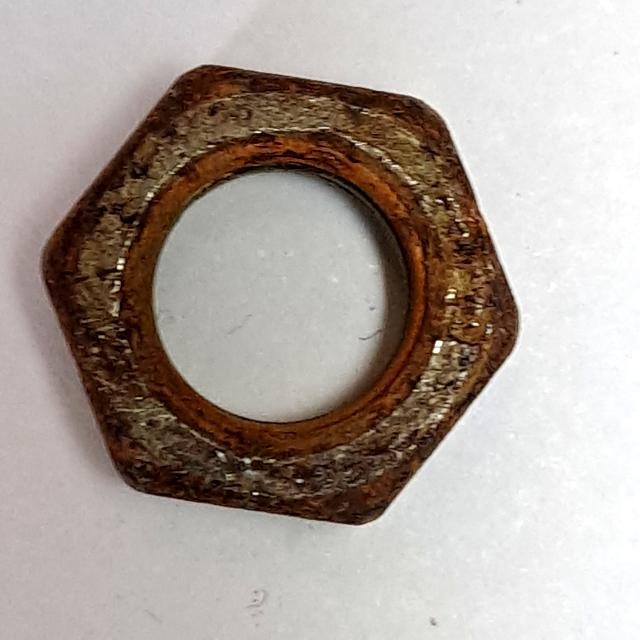Rust: (29, 40, 550, 548)
